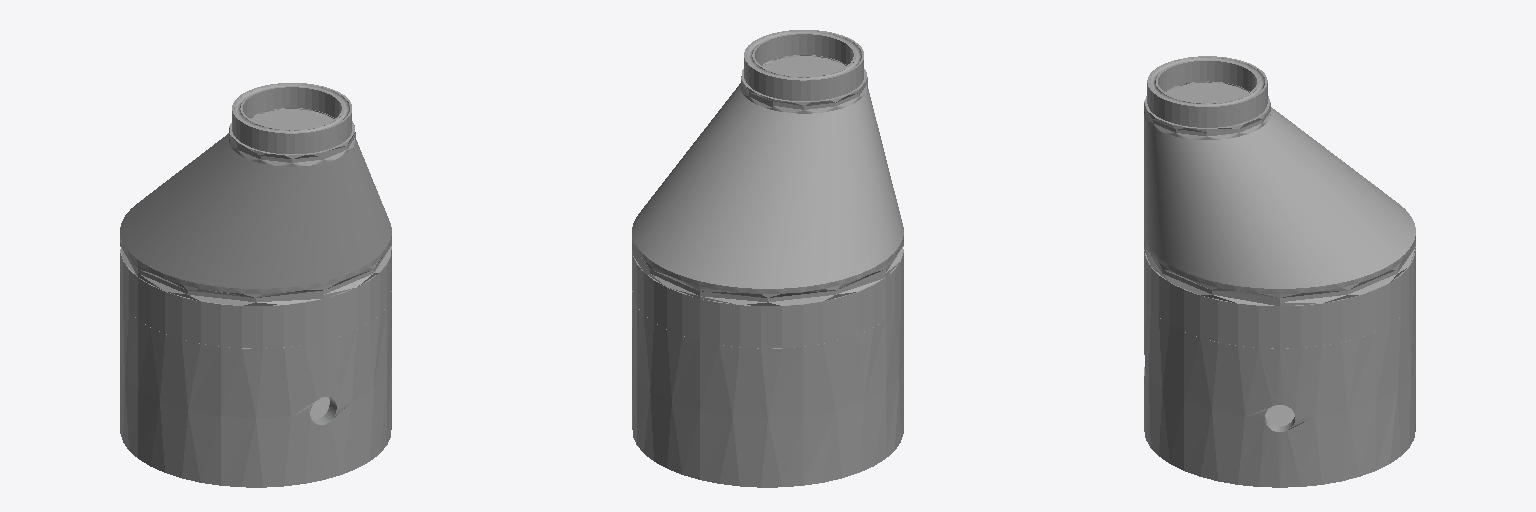
The model's file is manhole_inner.obj.
The picture shows the model from 3 angles: view 1: azimuth 30°, elevation 25°; view 2: azimuth 150°, elevation 25°; view 3: azimuth 270°, elevation 25°; orthographic projection.
Parts seen in each view (by area): view 1: Mesh1 Group_50 G_[number redacted]_1 Model, Mesh4 Group_39 Kj_Eks_DN1600_1000_1 Model, Mesh2 Group_40 Kr_DN1600_FS_300_1 Model, Mesh5 Group_42 Jr_DN650_NF_150_1 Model; view 2: Mesh4 Group_39 Kj_Eks_DN1600_1000_1 Model, Mesh1 Group_50 G_[number redacted]_1 Model, Mesh2 Group_40 Kr_DN1600_FS_300_1 Model, Mesh5 Group_42 Jr_DN650_NF_150_1 Model; view 3: Mesh4 Group_39 Kj_Eks_DN1600_1000_1 Model, Mesh1 Group_50 G_[number redacted]_1 Model, Mesh2 Group_40 Kr_DN1600_FS_300_1 Model, Mesh5 Group_42 Jr_DN650_NF_150_1 Model.
Part boxes in pixels (bbox=[...]): Mesh1 Group_50 G_[number redacted]_1 Model: bbox=[120, 291, 391, 487]; Mesh4 Group_39 Kj_Eks_DN1600_1000_1 Model: bbox=[120, 108, 391, 305]; Mesh2 Group_40 Kr_DN1600_FS_300_1 Model: bbox=[120, 249, 391, 348]; Mesh5 Group_42 Jr_DN650_NF_150_1 Model: bbox=[232, 83, 351, 153]; Mesh4 Group_39 Kj_Eks_DN1600_1000_1 Model: bbox=[632, 55, 903, 305]; Mesh1 Group_50 G_[number redacted]_1 Model: bbox=[632, 291, 903, 487]; Mesh2 Group_40 Kr_DN1600_FS_300_1 Model: bbox=[632, 249, 903, 348]; Mesh5 Group_42 Jr_DN650_NF_150_1 Model: bbox=[744, 30, 863, 100]; Mesh4 Group_39 Kj_Eks_DN1600_1000_1 Model: bbox=[1144, 82, 1415, 305]; Mesh1 Group_50 G_[number redacted]_1 Model: bbox=[1144, 293, 1415, 487]; Mesh2 Group_40 Kr_DN1600_FS_300_1 Model: bbox=[1144, 250, 1415, 348]; Mesh5 Group_42 Jr_DN650_NF_150_1 Model: bbox=[1147, 56, 1267, 127].
Bounding box in the file's own units: 70.08 × 99.21 × 70.08.